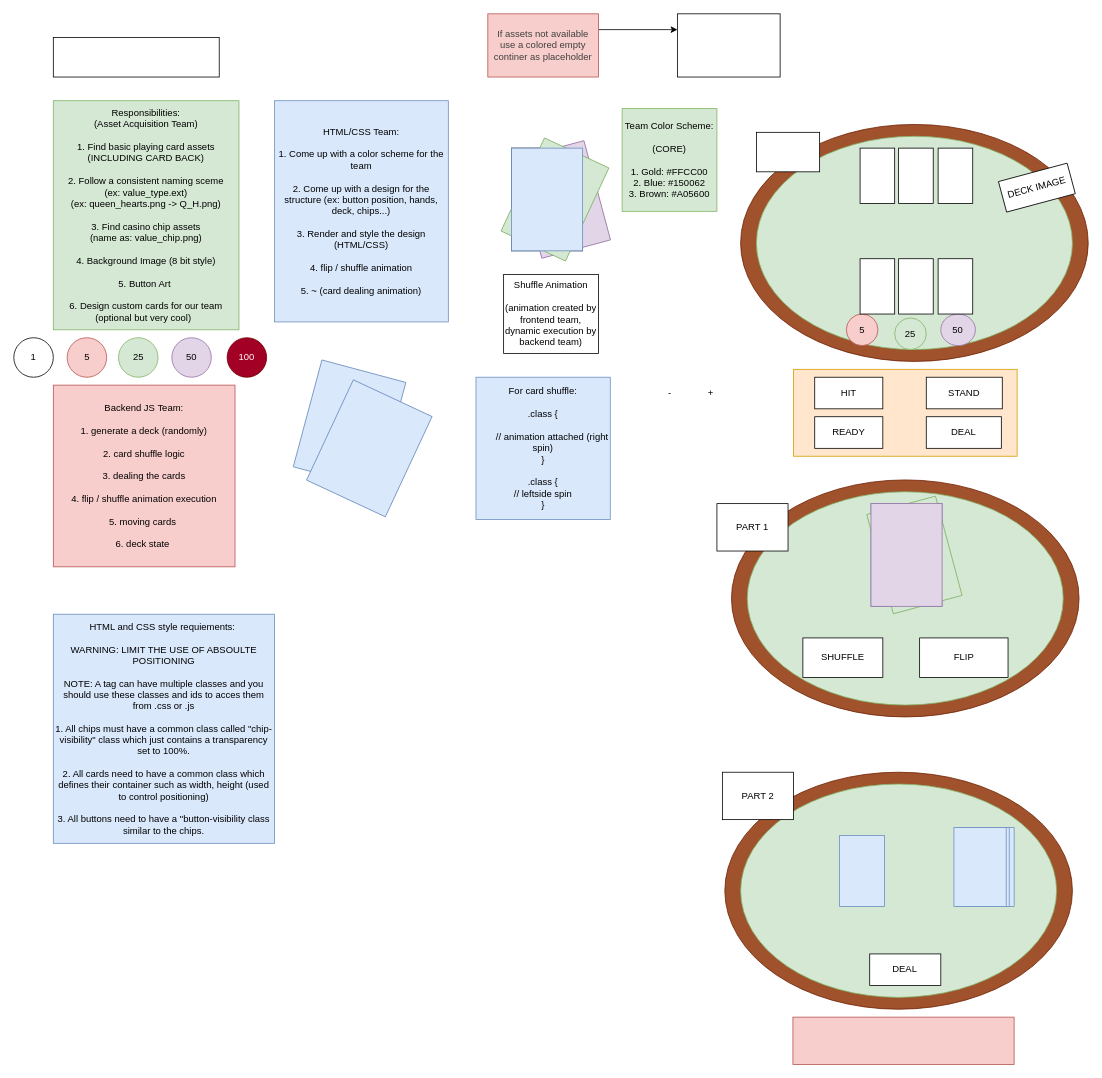
This 1102x1078 diagram has some shape labels left out. The shapes that lost their labels are listed below. From the top down, each one's centre as x and y in pixels, then its label:
At [136,57]: "Card Components & Deck".
At [728,45]: "A <div> with a background color and padding added by CSS".
At [788,152]: "PART 3".
At [903,1040]: "NOTE: WILL ALLOW TO MOVE CARDS AROUND".
